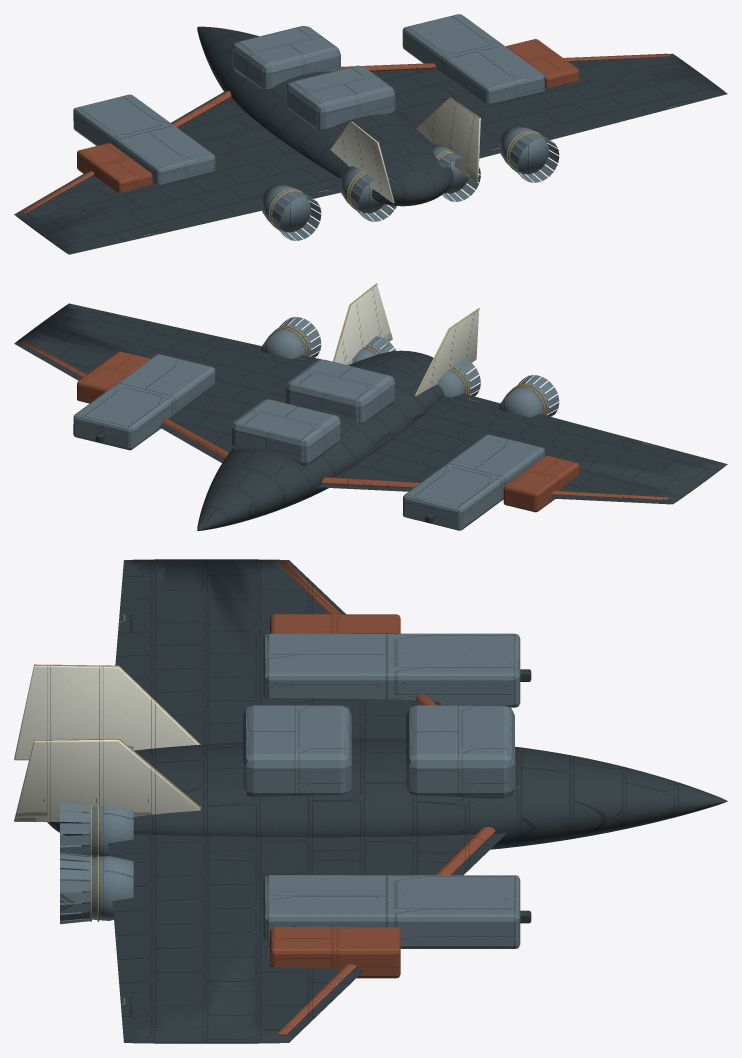
The model's file is boss.glb.
3 renders of one model, top to bottom at view 1: azimuth 30°, elevation 25°; view 2: azimuth 150°, elevation 25°; view 3: azimuth 270°, elevation 25°, orthographic. The views are drawn at different scales.
Visible parts, largest first — view 1: graphite-surfaces, titanium-surfaces, hostile-surfaces, ceramic-surfaces, brass-surfaces; view 2: graphite-surfaces, titanium-surfaces, hostile-surfaces, ceramic-surfaces, brass-surfaces; view 3: graphite-surfaces, titanium-surfaces, ceramic-surfaces, hostile-surfaces, brass-surfaces.
Boxes of the visible parts, x1=… form: graphite-surfaces: x1=14, y1=26, x2=727, y2=254; titanium-surfaces: x1=73, y1=14, x2=559, y2=240; hostile-surfaces: x1=21, y1=39, x2=669, y2=213; ceramic-surfaces: x1=330, y1=98, x2=480, y2=203; brass-surfaces: x1=268, y1=97, x2=544, y2=231; graphite-surfaces: x1=14, y1=303, x2=727, y2=530; titanium-surfaces: x1=73, y1=317, x2=559, y2=530; hostile-surfaces: x1=21, y1=340, x2=670, y2=512; ceramic-surfaces: x1=333, y1=284, x2=479, y2=395; brass-surfaces: x1=273, y1=283, x2=547, y2=415; graphite-surfaces: x1=47, y1=559, x2=727, y2=1043; titanium-surfaces: x1=60, y1=633, x2=520, y2=948; ceramic-surfaces: x1=14, y1=665, x2=200, y2=821; hostile-surfaces: x1=270, y1=560, x2=495, y2=1035; brass-surfaces: x1=34, y1=664, x2=200, y2=921.
Bounding box in the file's own units: 21 × 2.78 × 13.13.
5 materials, 5 textured.
